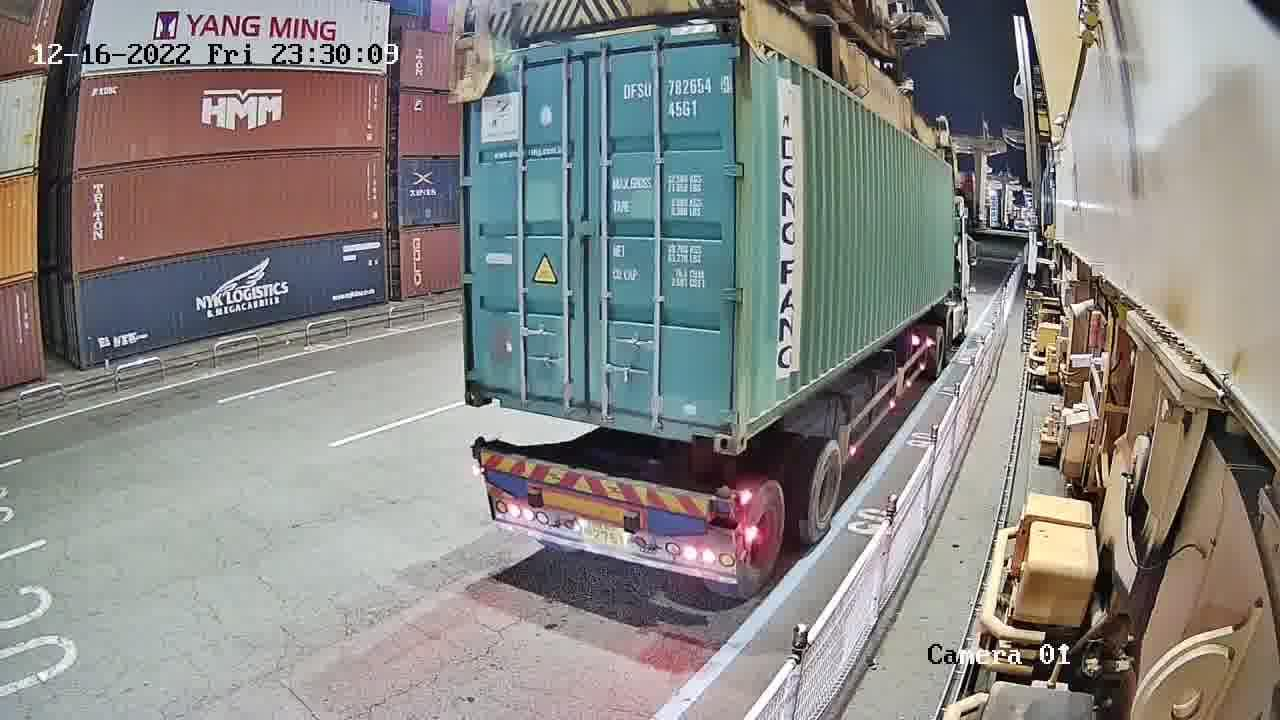Chassis: (474, 451, 729, 530)
Cone: (714, 488, 731, 519), (470, 436, 486, 461)
Hole_L: (736, 388, 769, 457), (465, 362, 500, 406)
Hole_R: (679, 395, 735, 453)
